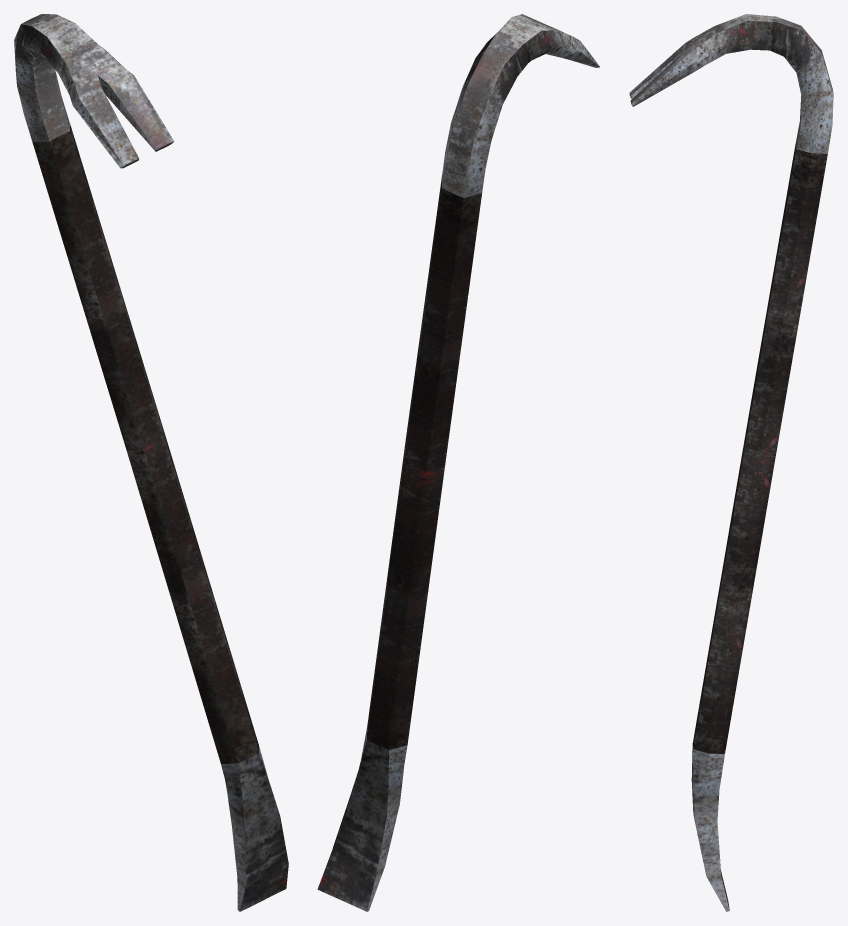
Rendered from crowbar.obj.
3 renders of one model, left to right at view 1: azimuth 30°, elevation 25°; view 2: azimuth 150°, elevation 25°; view 3: azimuth 270°, elevation 25°, orthographic. The views are drawn at different scales.
Parts seen in each view (by area): view 1: cb_skin; view 2: cb_skin; view 3: cb_skin.
Boxes of the visible parts, bbox=[...] form: cb_skin: bbox=[14, 14, 288, 911]; cb_skin: bbox=[317, 14, 599, 911]; cb_skin: bbox=[629, 14, 833, 911].
Size of the model in its own units: 13.02 by 48.58 by 11.05.
Materials: 1 (1 with a texture image).
